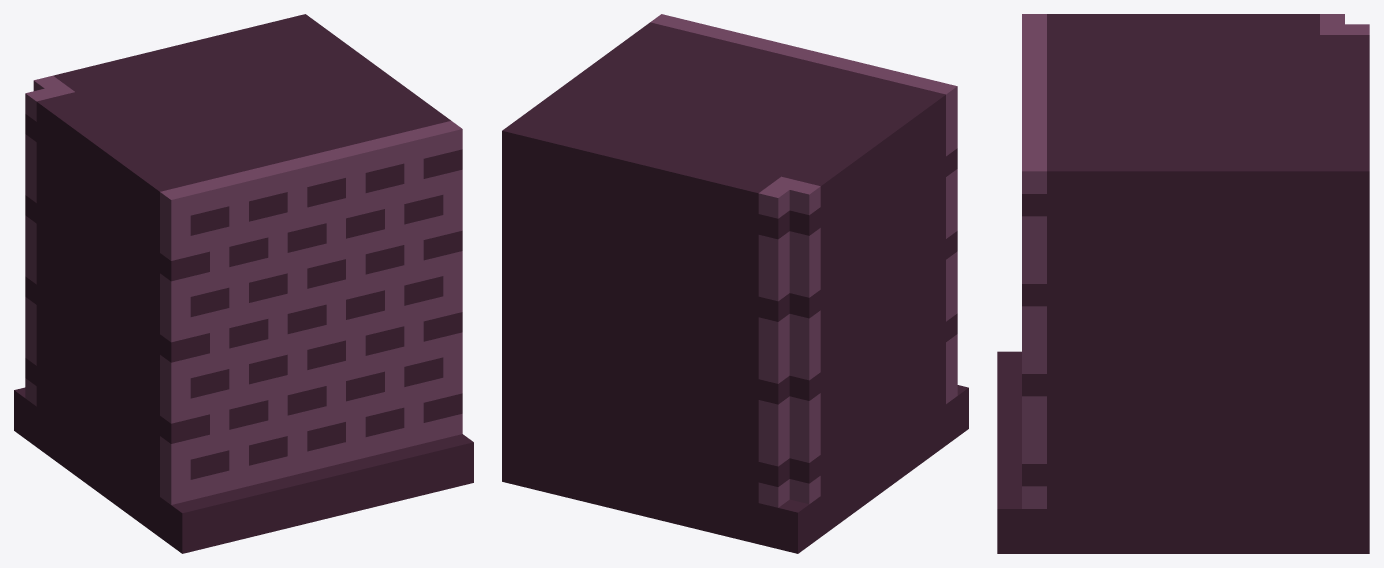
Rendered from dungeon_c_b_outer_wall_segment_c.obj.
3 renders of one model, left to right at view 1: azimuth 30°, elevation 25°; view 2: azimuth 150°, elevation 25°; view 3: azimuth 270°, elevation 25°, orthographic. The views are drawn at different scales.
Size of the model in its own units: 1.5 by 1.7 by 1.5.
1 material, 1 textured.
